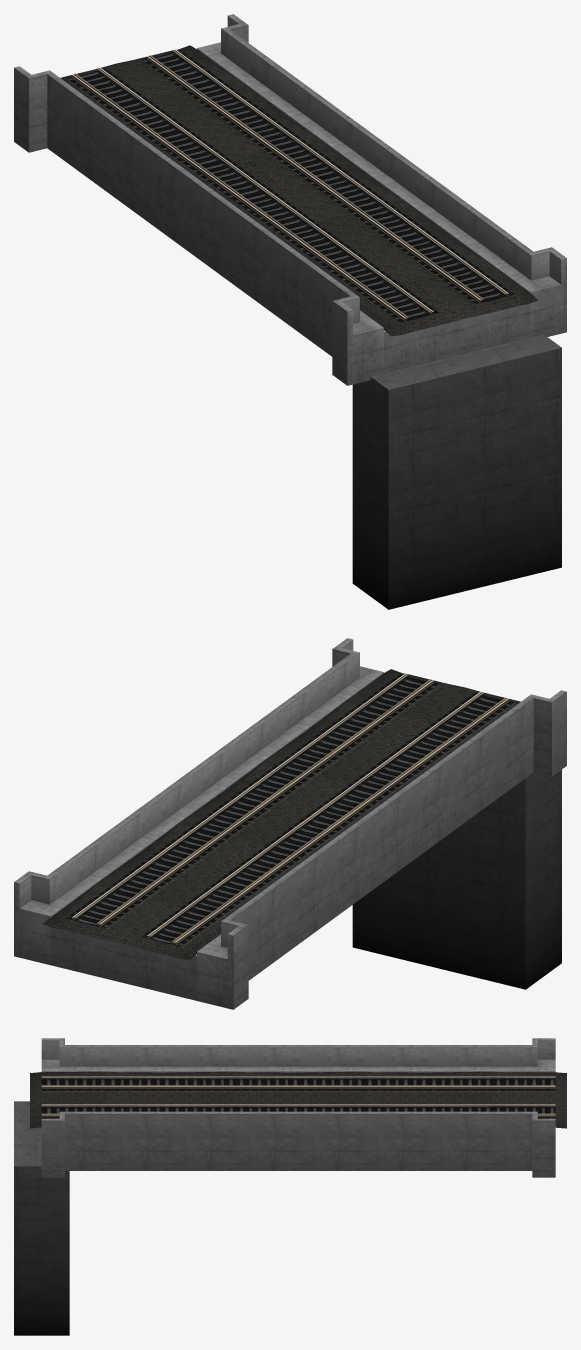
The model's file is KH_KOUKA00_100.glb.
3 views of the same model, one above another, from view 1: azimuth 30°, elevation 25°; view 2: azimuth 150°, elevation 25°; view 3: azimuth 270°, elevation 25° (orthographic). The views are drawn at different scales.
Visible parts, largest first — view 1: Jari_All, obj2, R000_RG_R, R000_RG_L; view 2: Jari_All, obj2, R000_RG_R, R000_RG_L; view 3: Jari_All, obj2, R000_RG_R, R000_RG_L.
Boxes of the visible parts, <box> form: Jari_All: <box>14,14,566,385</box>; obj2: <box>352,334,561,609</box>; R000_RG_R: <box>74,55,483,319</box>; R000_RG_L: <box>96,50,506,312</box>; Jari_All: <box>14,638,566,1009</box>; obj2: <box>352,769,561,989</box>; R000_RG_R: <box>96,679,506,943</box>; R000_RG_L: <box>74,674,484,937</box>; Jari_All: <box>30,1038,566,1177</box>; obj2: <box>14,1101,69,1335</box>; R000_RG_R: <box>41,1077,555,1106</box>; R000_RG_L: <box>41,1085,555,1114</box>.
Bounding box in the file's own units: 38 × 48.06 × 108.
Materials: 8 (7 with a texture image).
